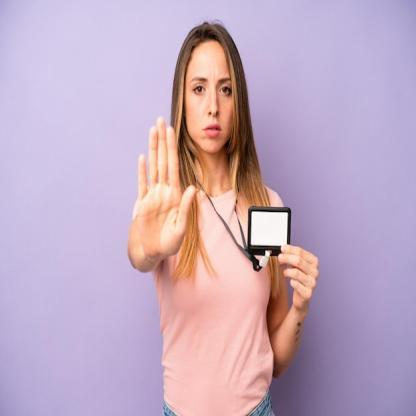stop: (135, 113, 197, 270)
